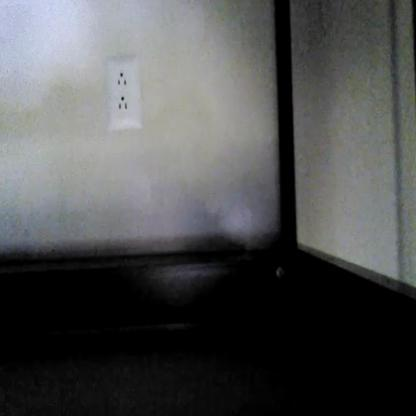OUTLET: (107, 55, 141, 132)
